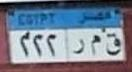2: (18, 32, 31, 58), (45, 34, 59, 57), (32, 34, 44, 57)
meem: (88, 33, 101, 56)
qaaf: (104, 32, 121, 58)
raa: (71, 37, 86, 56)
